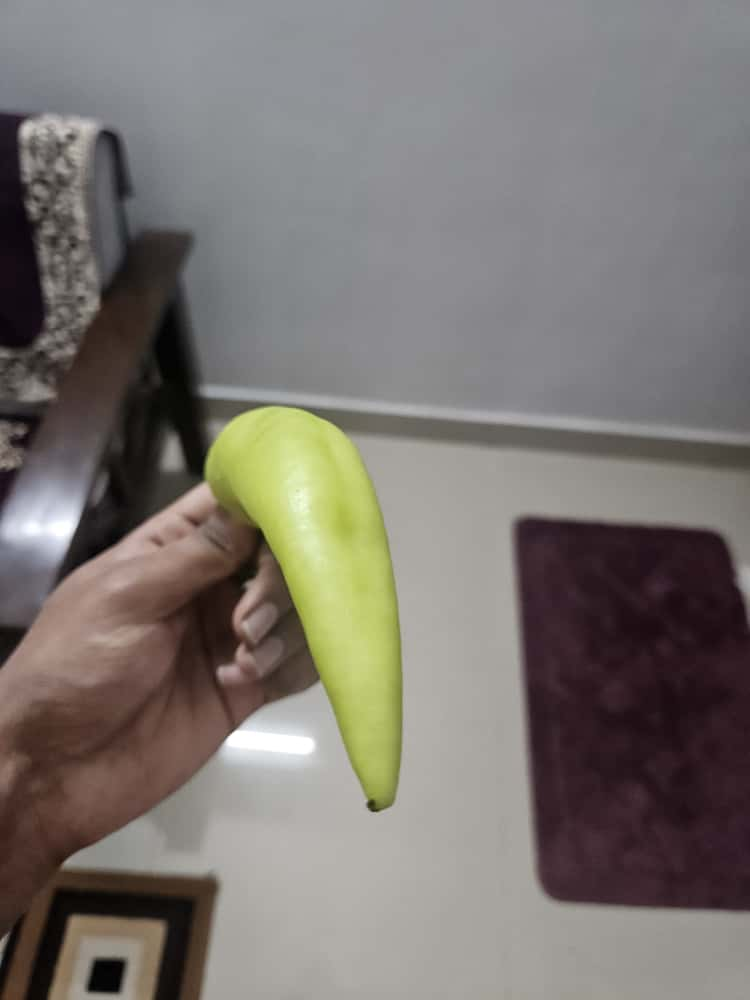wet: (195, 387, 456, 815)
